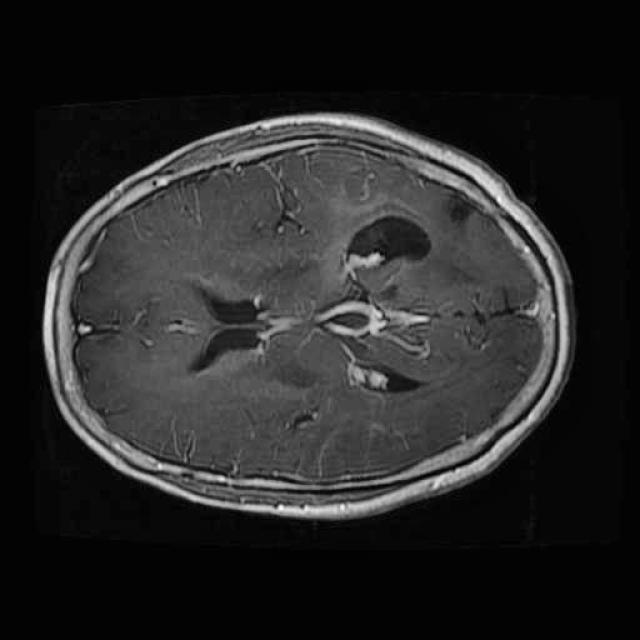Non-Tumor: (435, 176, 489, 241)
